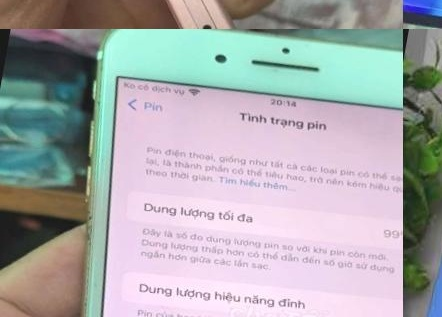scratch: (129, 29, 299, 51), (71, 202, 103, 254), (257, 62, 292, 78)
